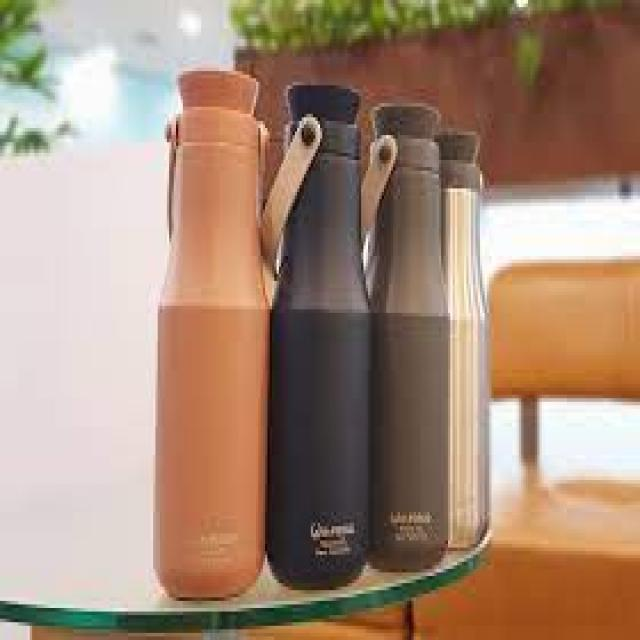bottle: (147, 61, 271, 616), (264, 71, 371, 603), (372, 69, 449, 584), (425, 109, 491, 560)
